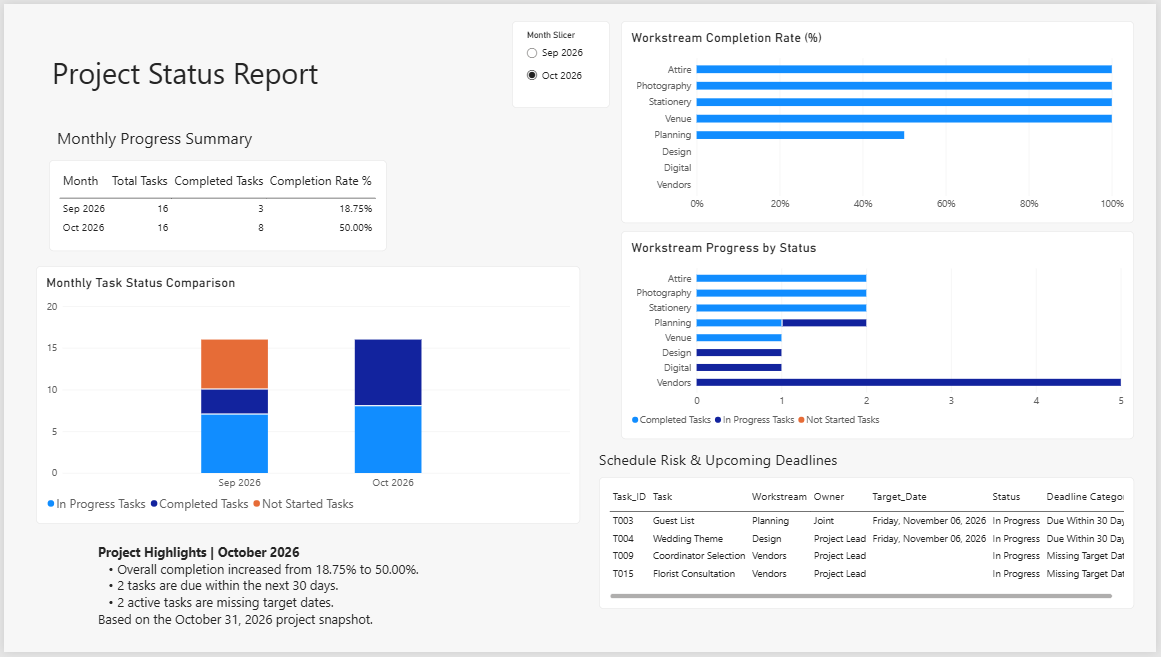

The dashboard page shown, as its layout file describes it:
{"tool":"powerbi","page":{"name":"Project Status Report","canvas":[1920,1080],"ordinal":1},"visuals":[{"type":"tableEx","fields":{"Values":["ProjectStatus.Status Month Label","ProjectStatus.Total Tasks","ProjectStatus.Completed Tasks","ProjectStatus.Completion Rate %"]},"box":[75,260,563.3,151.7],"z":0},{"type":"columnChart","title":"Monthly Task Status Comparison","fields":{"Category":["ProjectStatus.Status Month Label"],"Y":["ProjectStatus.In Progress Tasks","ProjectStatus.Completed Tasks","ProjectStatus.Not Started Tasks"]},"box":[53.3,436.7,906.7,430],"z":1000},{"type":"barChart","title":"Workstream Progress by Status","fields":{"Category":["ProjectStatus.Workstream"],"Y":["ProjectStatus.Completed Tasks","ProjectStatus.In Progress Tasks","ProjectStatus.Not Started Tasks"]},"box":[1028.3,378.3,855,346.7],"z":2000},{"type":"slicer","fields":{"Values":["ProjectStatus.Status Month Label"]},"box":[846.7,28.3,163.3,145],"z":3000},{"type":"clusteredBarChart","title":"Workstream Completion Rate (%)","fields":{"Category":["ProjectStatus.Workstream"],"Y":["ProjectStatus.Completion Rate %"]},"box":[1028.3,28.3,855,336.7],"z":4000},{"type":"tableEx","fields":{"Values":["ProjectStatus.Task_ID","ProjectStatus.Task","ProjectStatus.Workstream","ProjectStatus.Owner","ProjectStatus.Target_Date","ProjectStatus.Status","ProjectStatus.Deadline Category"]},"box":[991.7,788.3,891.7,220],"z":5000},{"type":"textbox","box":[53.3,81.7,496.7,106.7],"z":6000},{"type":"textbox","box":[550,39,297,150],"z":7000},{"type":"textbox","box":[88.2,205.1,453.3,55],"z":8000},{"type":"textbox","box":[991.7,741.7,446.7,46.7],"z":9000},{"type":"textbox","box":[156.7,898.3,651.7,156.7],"z":10000}]}

Visuals, with their boxes in screenshot pixels (x1, y1, x2, y2), scaled from the page's 1920x1080 canvas onto the 1161x657 screenshot:
tableEx - ProjectStatus.Status Month Label x ProjectStatus.Total Tasks: bbox(45, 158, 386, 250)
"Monthly Task Status Comparison" columnChart: bbox(32, 266, 580, 527)
"Workstream Progress by Status" barChart: bbox(622, 230, 1139, 441)
slicer - ProjectStatus.Status Month Label: bbox(512, 17, 611, 105)
"Workstream Completion Rate (%)" clusteredBarChart: bbox(622, 17, 1139, 222)
tableEx - ProjectStatus.Task_ID x ProjectStatus.Task: bbox(600, 480, 1139, 613)
textbox: bbox(32, 50, 333, 115)
textbox: bbox(333, 24, 512, 115)
textbox: bbox(53, 125, 327, 158)
textbox: bbox(600, 451, 870, 480)
textbox: bbox(95, 546, 489, 642)
